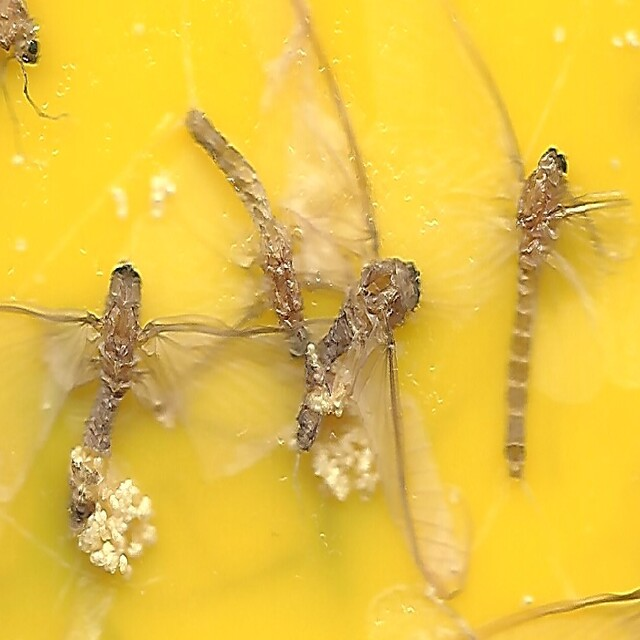Ephemeroptera: (183, 111, 312, 363), (296, 255, 424, 457), (502, 137, 574, 485), (66, 256, 144, 529)
